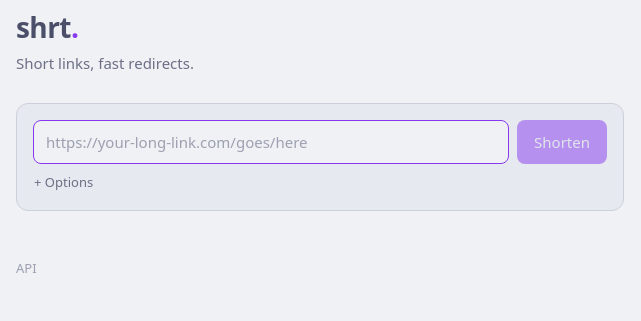
App › formats validation errors
Step 1. Type "https://example.com" into the field named "Long URL" → coordinates (271, 142), box [33,120,509,164]
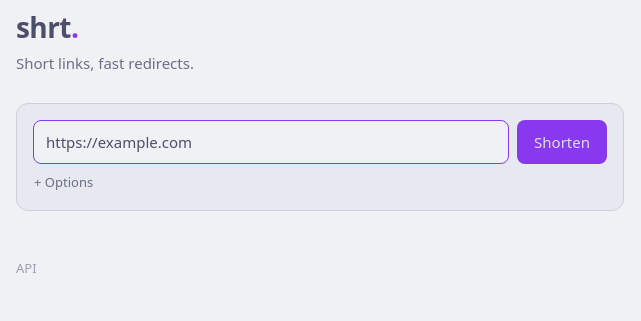
Step 2. Click the button "Shorten" → coordinates (562, 142), box [517,120,607,164]
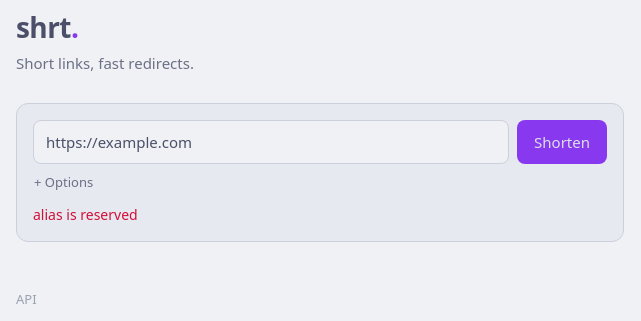
Result: the message reads "alias is reserved" at [33,204,138,224]
